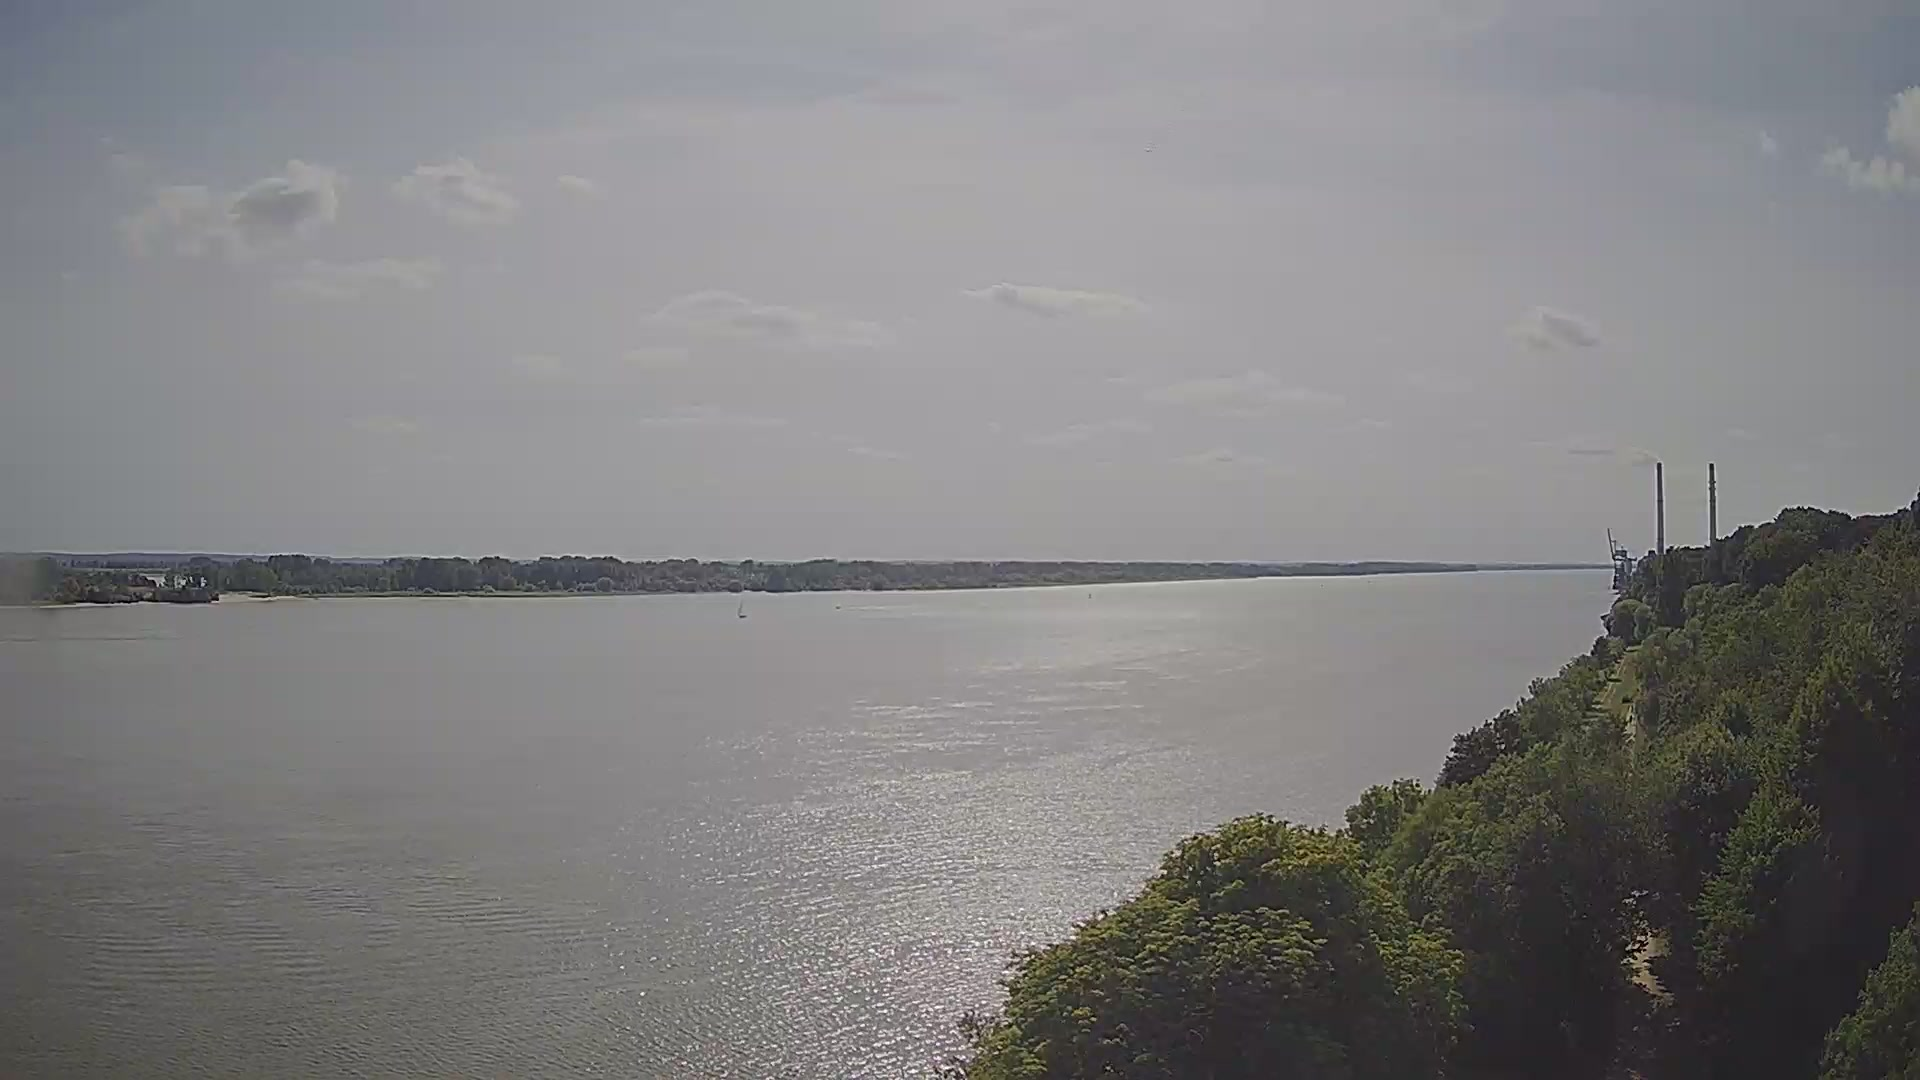sea: (736, 599, 746, 617), (835, 604, 843, 611)
